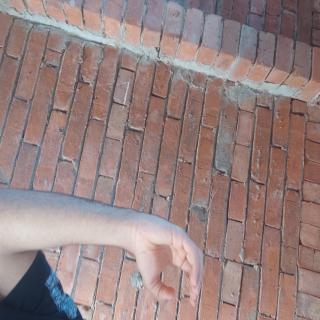JEEM: (152, 148, 230, 274)
